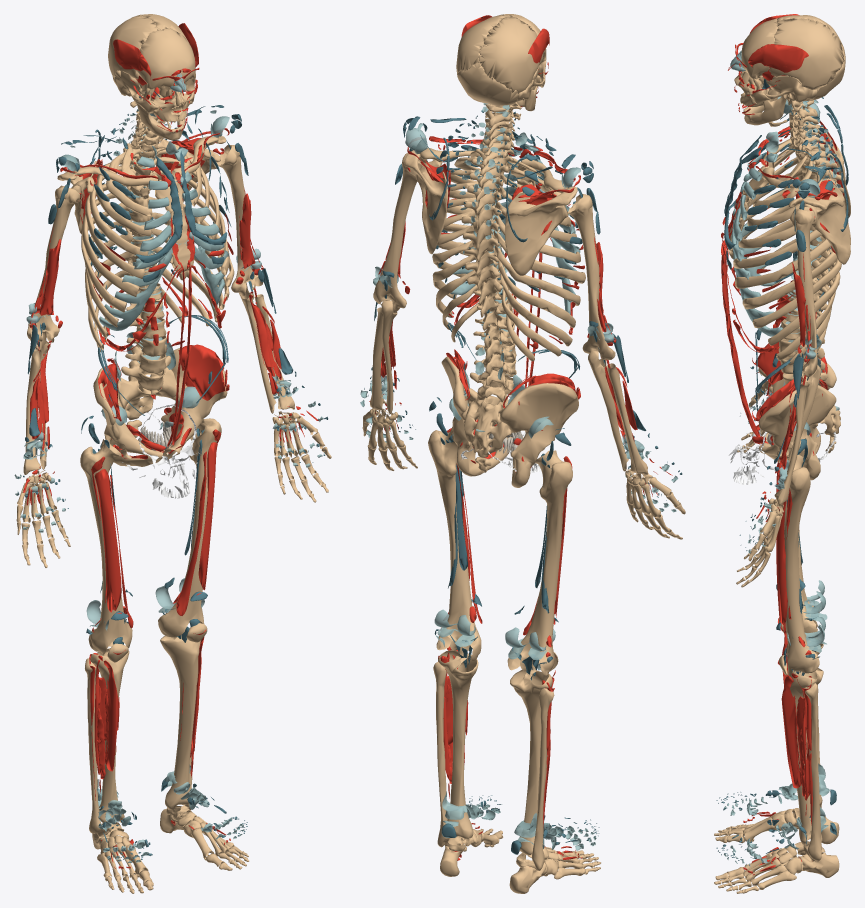
Rendered from muscular_insertions.glb.
3 views of the same model, side by side, from view 1: azimuth 30°, elevation 25°; view 2: azimuth 150°, elevation 25°; view 3: azimuth 270°, elevation 25° (orthographic). The views are drawn at different scales.
Visible parts, largest first — view 1: Object_3, Object_71, Object_36, Object_45, Object_106; view 2: Object_3, Object_36, Object_71, Object_45; view 3: Object_3, Object_71, Object_36, Object_45, Object_106.
Part boxes in pixels (x1,y1,x2,y2): Object_3: (16, 14, 331, 893); Object_71: (23, 23, 318, 868); Object_36: (14, 73, 323, 862); Object_45: (18, 84, 328, 860); Object_106: (115, 404, 199, 498); Object_3: (362, 14, 685, 893); Object_36: (360, 103, 678, 850); Object_71: (369, 15, 672, 860); Object_45: (364, 110, 682, 854); Object_3: (714, 15, 850, 893); Object_71: (721, 14, 843, 875); Object_36: (723, 51, 840, 866); Object_45: (716, 79, 848, 860); Object_106: (728, 396, 836, 484).
Bounding box in the file's own units: 21924 × 55578 × 8196.
